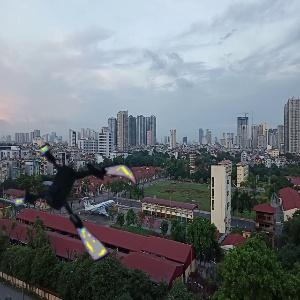drone: (17, 139, 142, 264)
